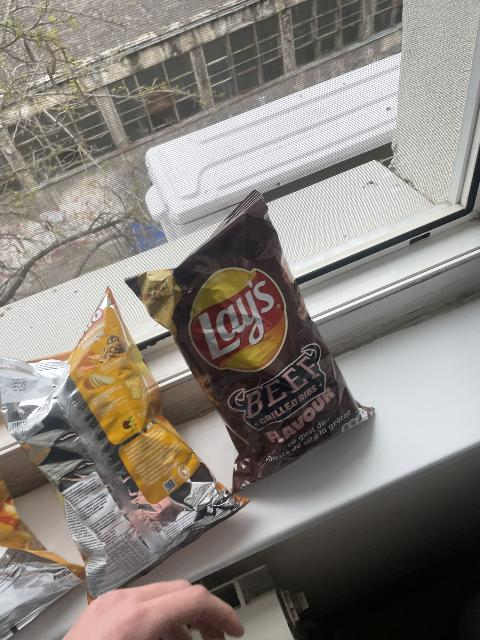Chio Cascaval 125g: (1, 301, 255, 607)
Chio Hula Hoops Cheese 70g: (1, 457, 89, 636)
Lays Beef Grilled Ribs 125g: (133, 196, 373, 466)
